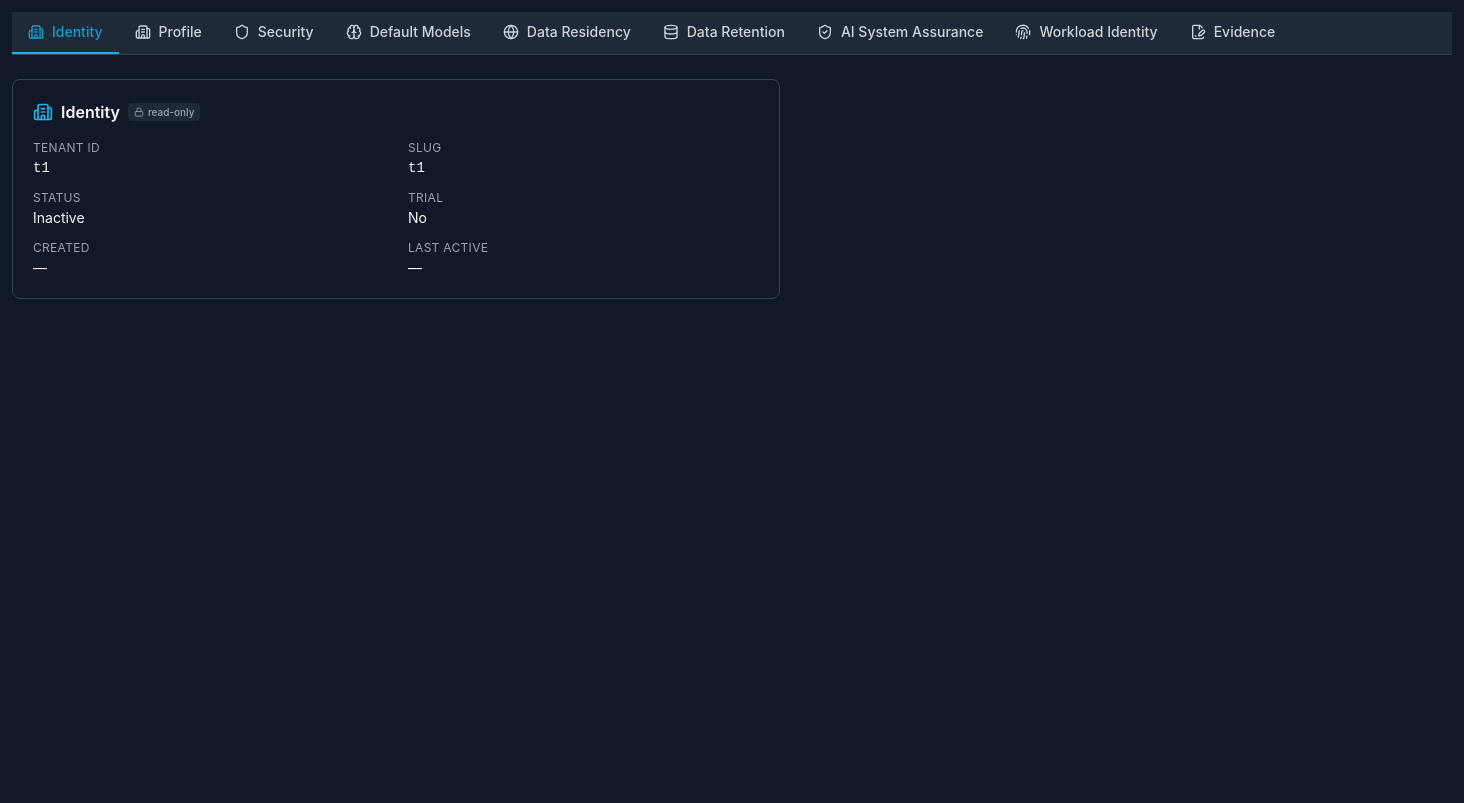
Scenario: TenantSettingsTab — Data Retention › flags a body window longer than the log window before save
This screenshot has width=1464, height=803.
Click the button "Data Retention" at [724, 33], box top-left (647, 12), bottom-right (801, 54)
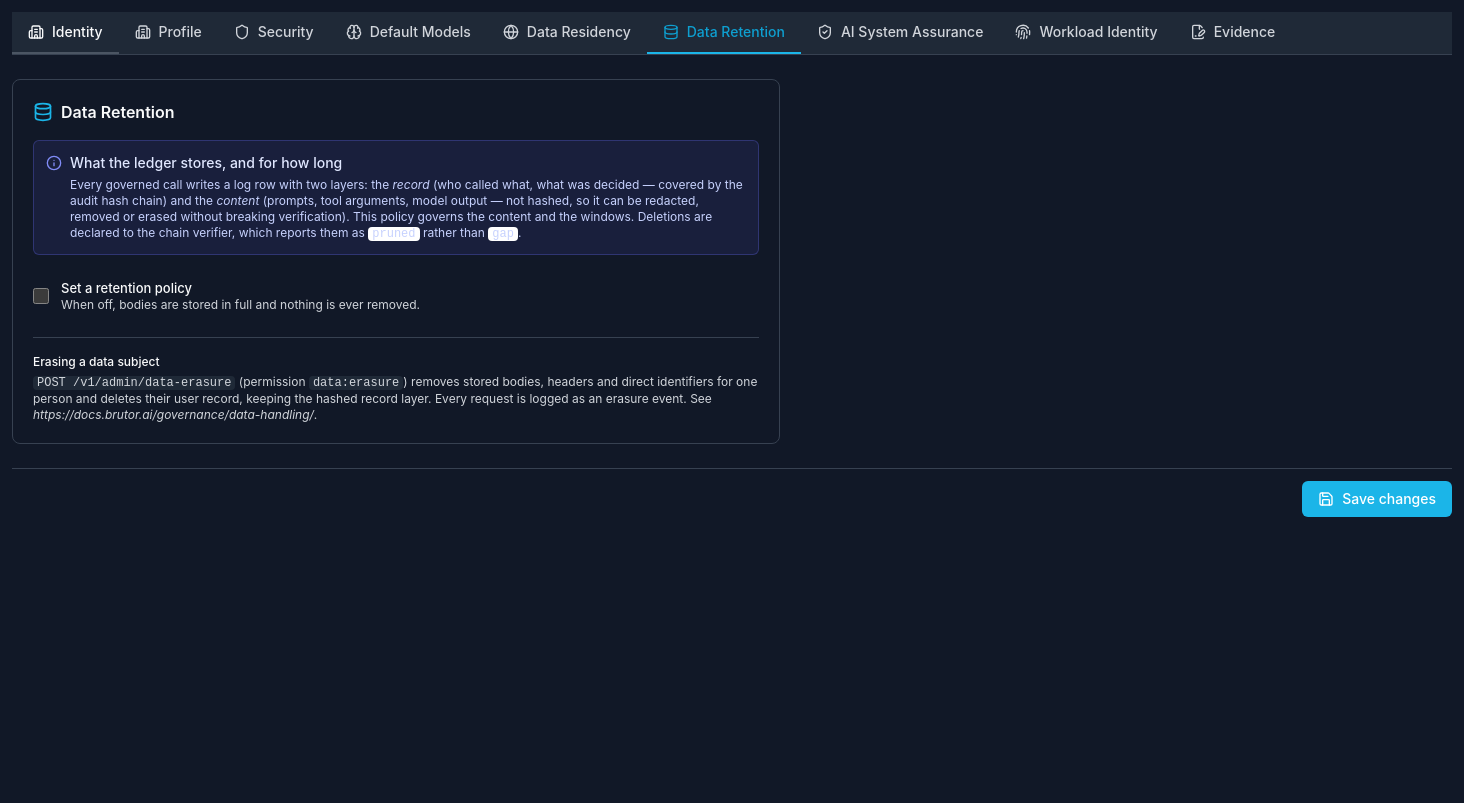
Click the checkbox with test id "retention-enabled" at [41, 296], box top-left (33, 288), bottom-right (49, 304)
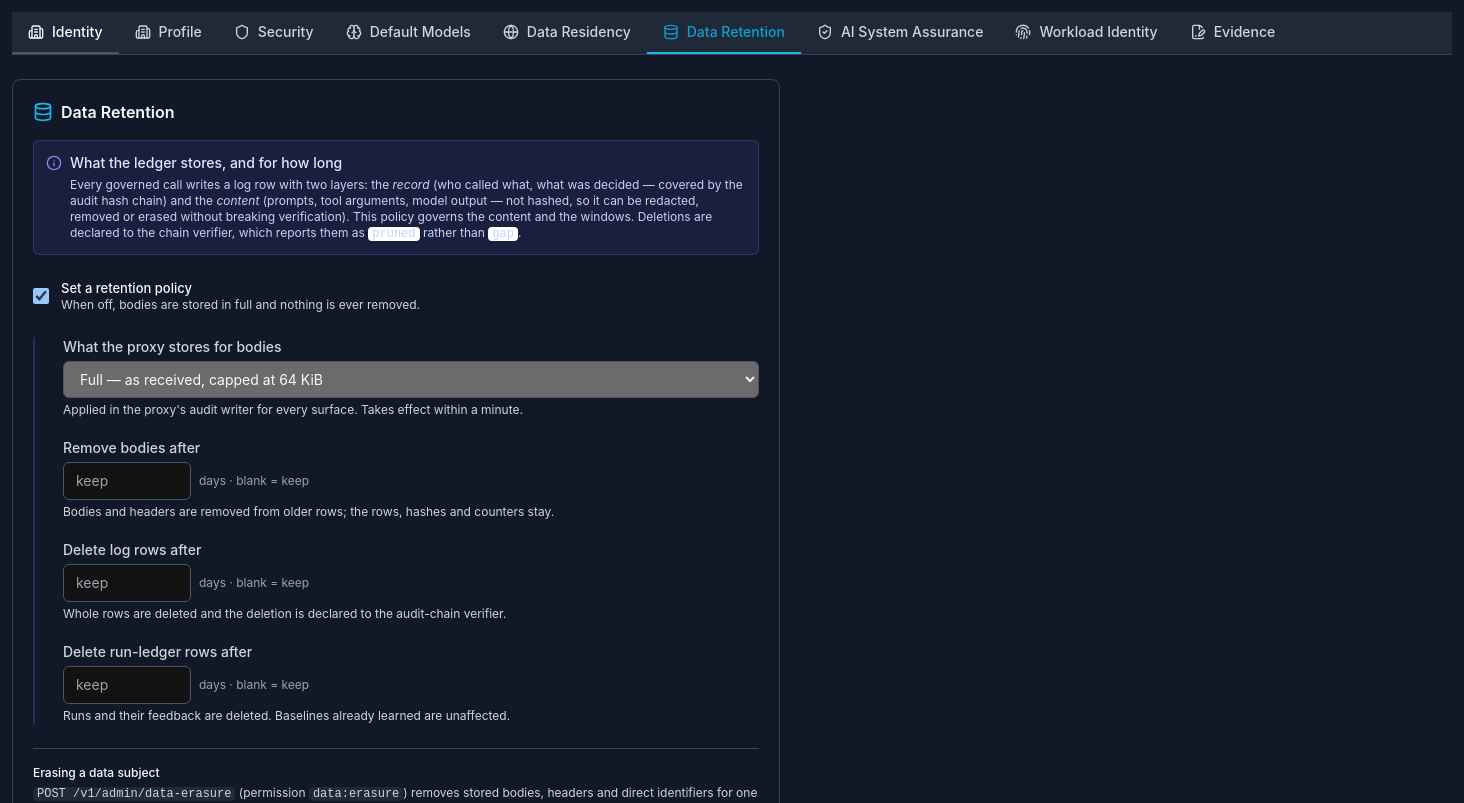
Type "30" into the number field with test id "retention-log_days" at [127, 583], box top-left (63, 564), bottom-right (191, 602)
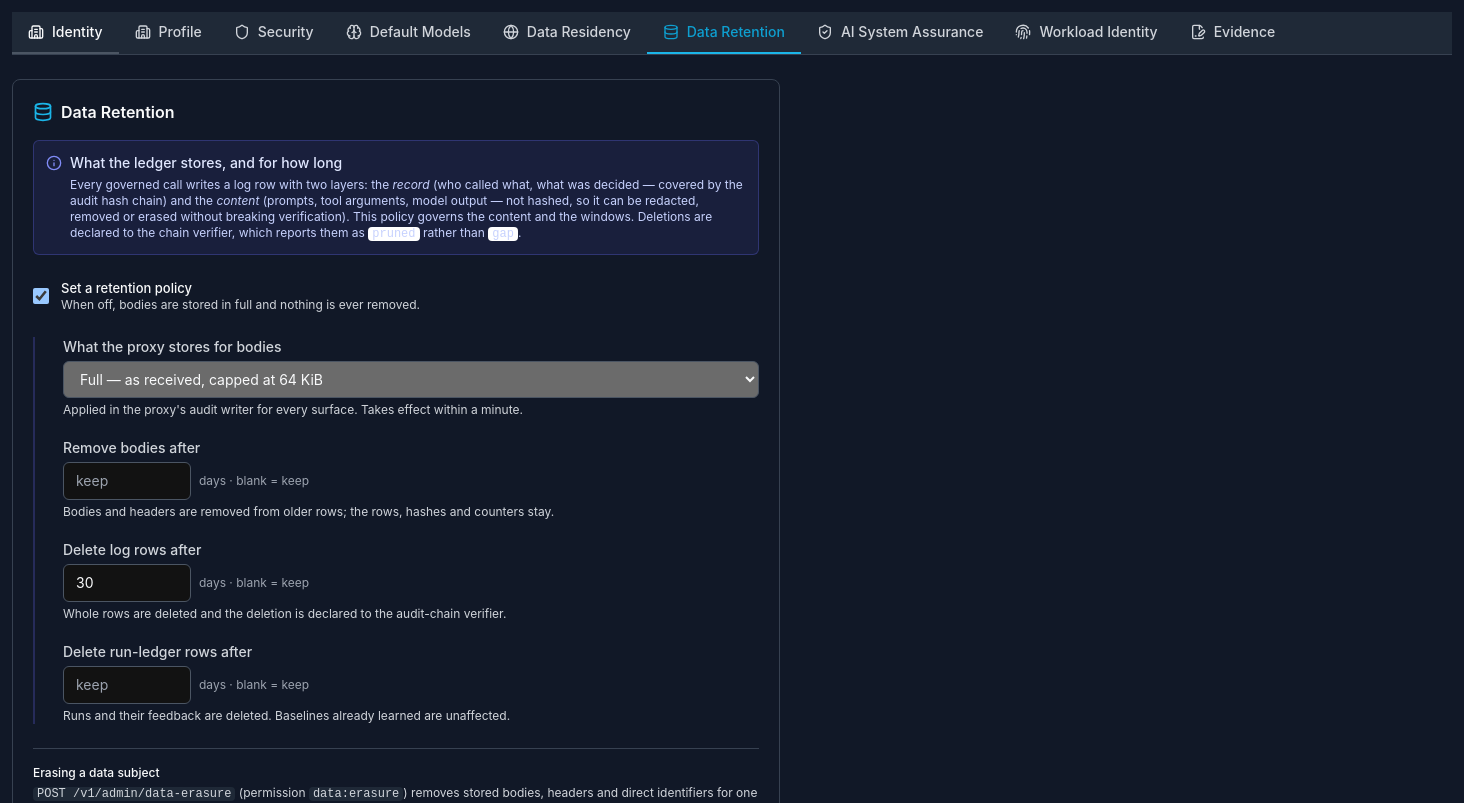
Type "90" into the number field with test id "retention-body_days" at [127, 481], box top-left (63, 462), bottom-right (191, 500)
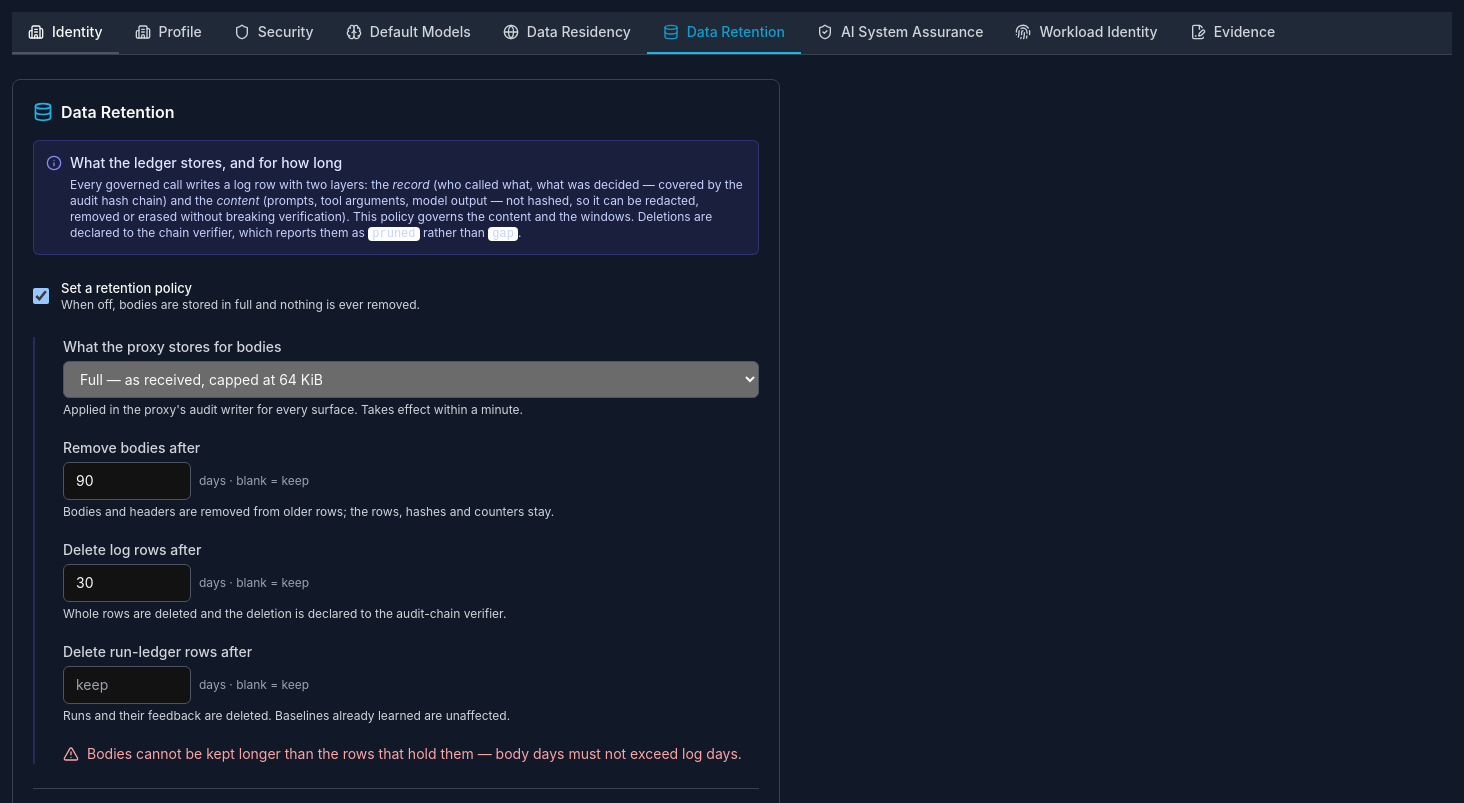
Check: the element with test id "retention-window-error" is shown, box top-left (63, 744), bottom-right (759, 764)
Replace the text in the number field with test id "retention-body_days" with "10" at [127, 481], box top-left (63, 462), bottom-right (191, 500)
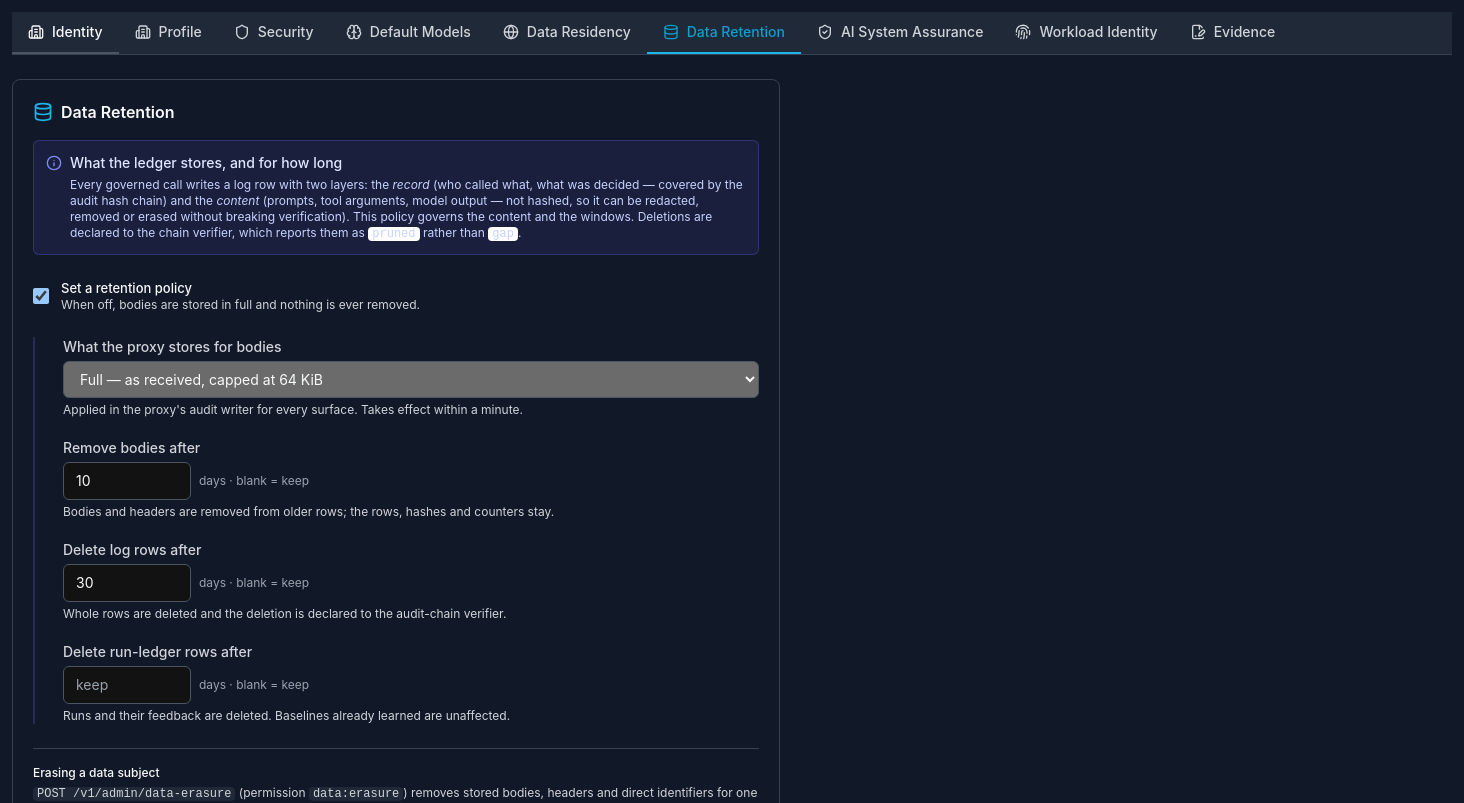
Check: the element with test id "retention-window-error" is gone
